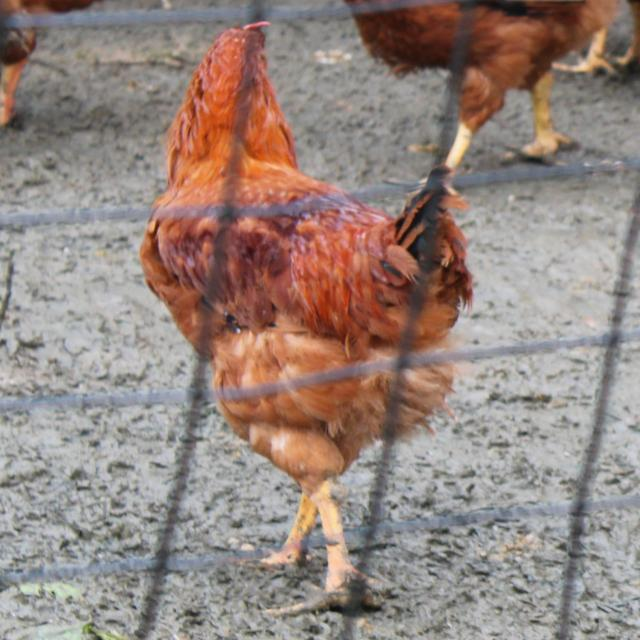cook: (140, 25, 472, 388), (219, 374, 392, 614)
